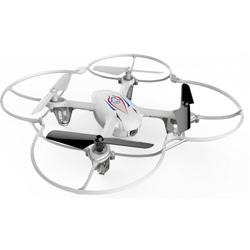drone: (2, 57, 246, 196)
